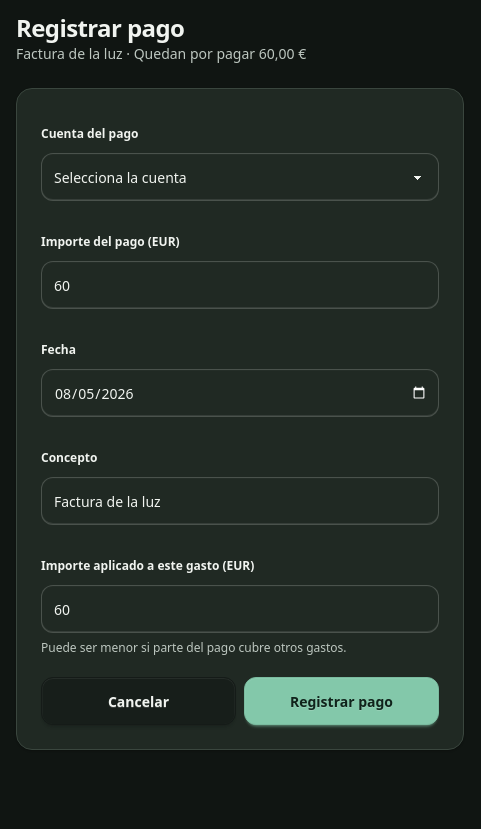
PayExpensePage › explains the funder attribution for a personal account
This screenshot has width=481, height=829.
Select "Cuenta de Alex" in the dropdown labelled "Cuenta del pago" at (240, 177), box top-left (41, 153), bottom-right (439, 201)
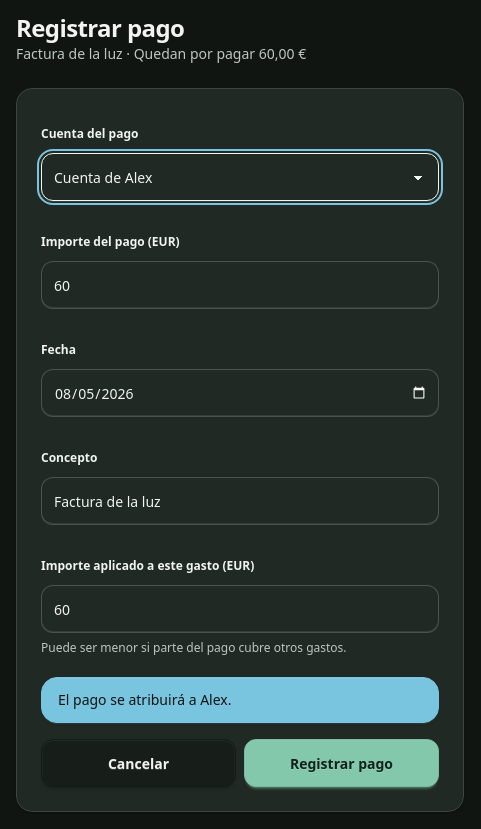
Now the text "El pago se atribuirá a Alex." is shown, box top-left (41, 677), bottom-right (439, 723)
